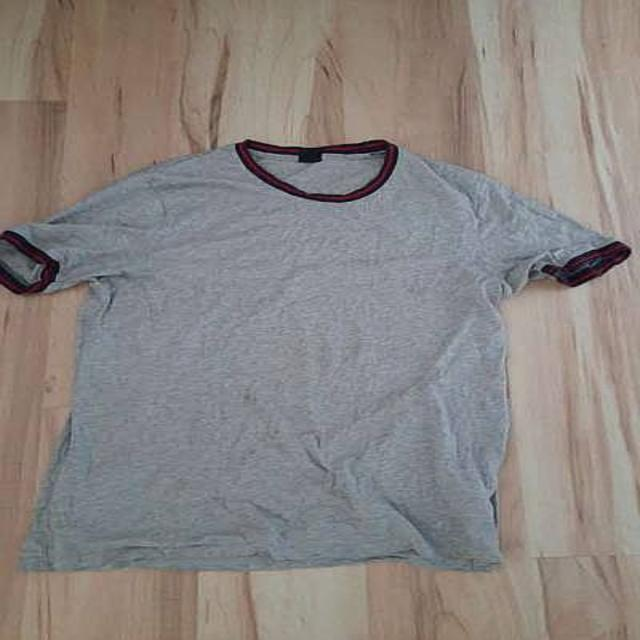SHIRT: (4, 131, 632, 572)
